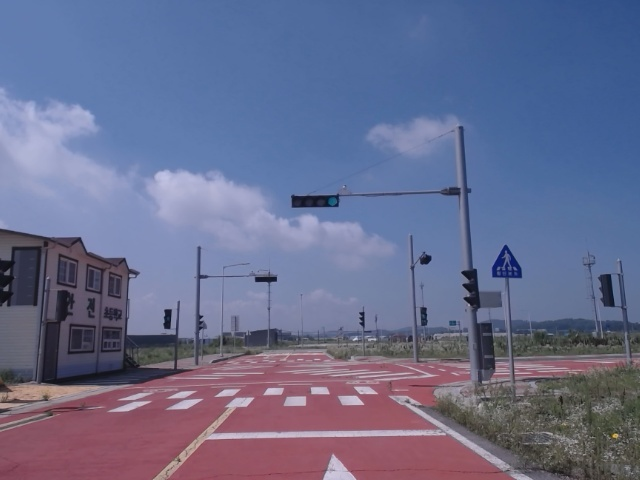straight_green_4: (290, 197, 340, 208)
